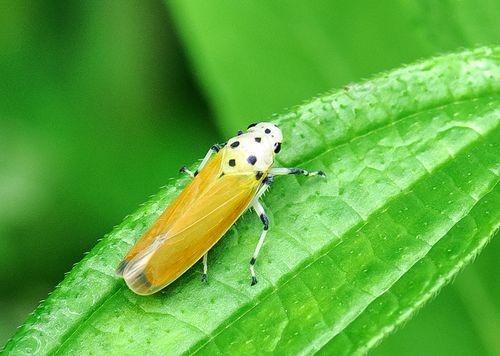Cicadellidae: (116, 121, 325, 296)
